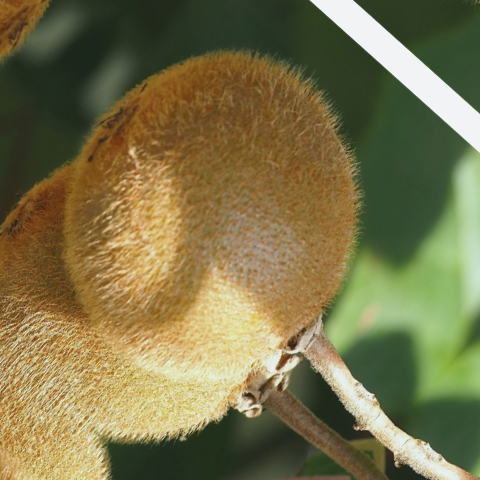kiwi: (0, 0, 450, 450)
